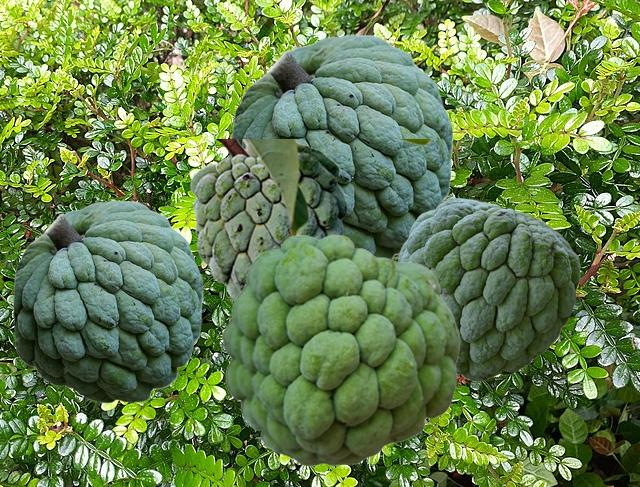atis: (221, 234, 459, 465), (231, 34, 452, 259), (189, 139, 430, 300), (13, 200, 202, 402), (397, 197, 579, 380)
